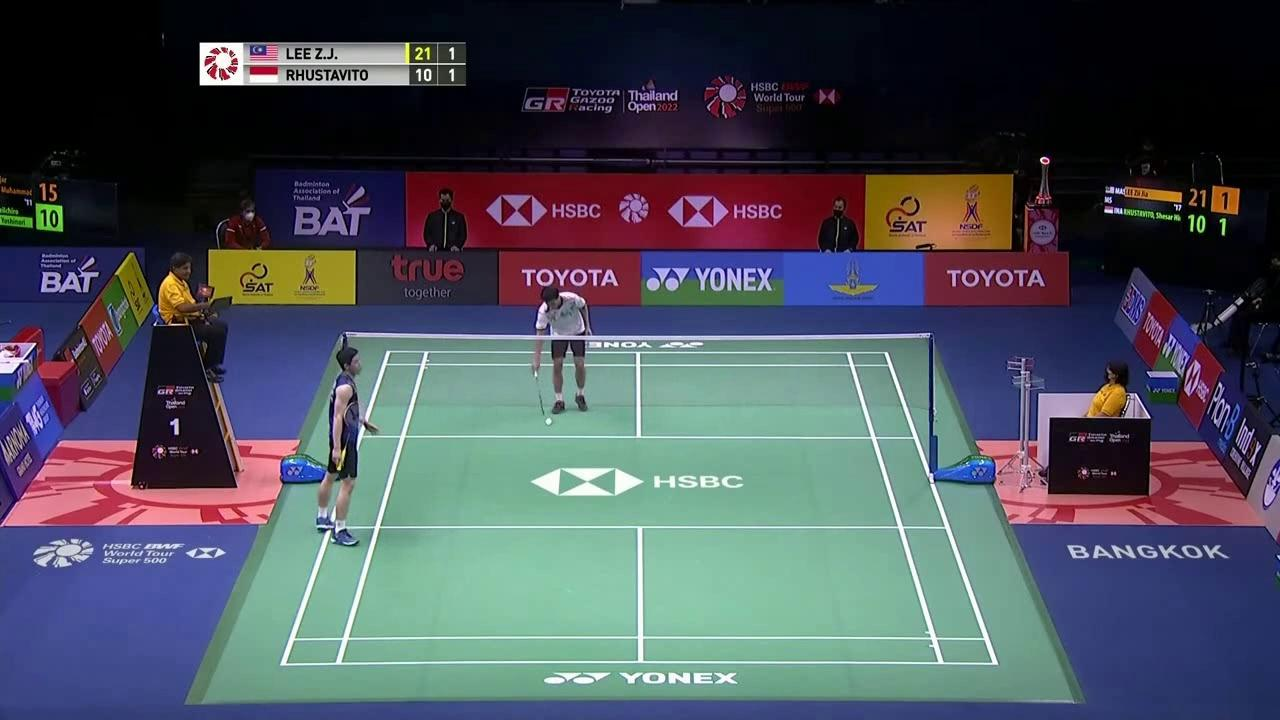racket: (337, 402, 366, 470), (531, 361, 545, 416)
shuttle: (545, 418, 553, 426)
